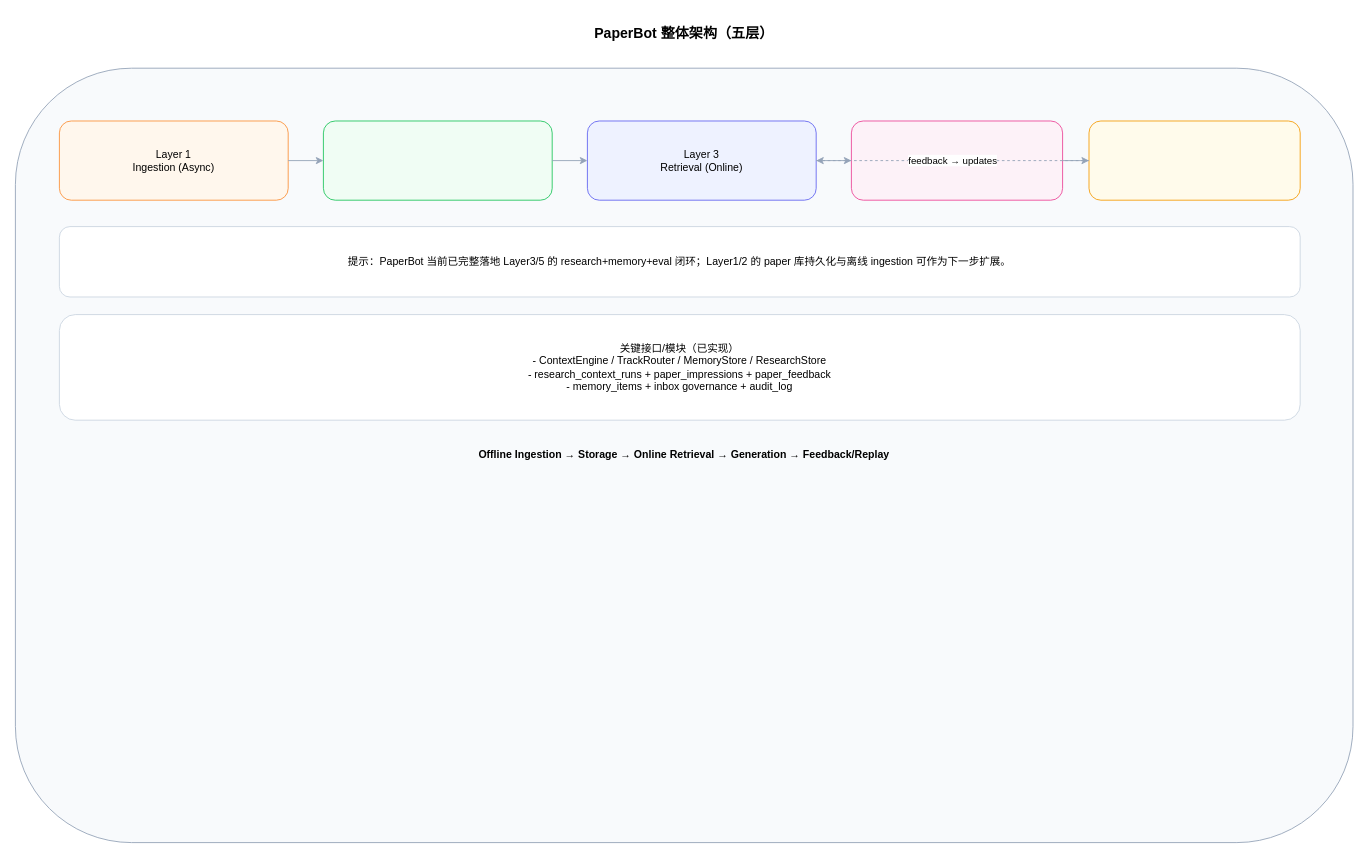
The diagram is 1368 pixels wide and 858 high, and some of its shapes have lost their labels. The shapes that lost their labels are listed below. From the top down, each one's box as (x1, y1, x2, y2) in pixels, then its label:
(323, 120, 552, 200): Layer 2 Storage
(851, 120, 1063, 200): Layer 4 Generation
(1088, 120, 1300, 200): Layer 5 Feedback / Replay
